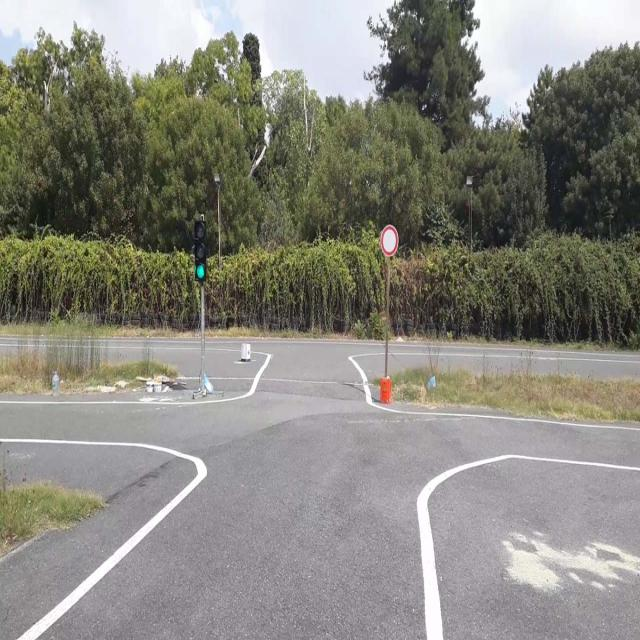yesil: (195, 220, 205, 281)
